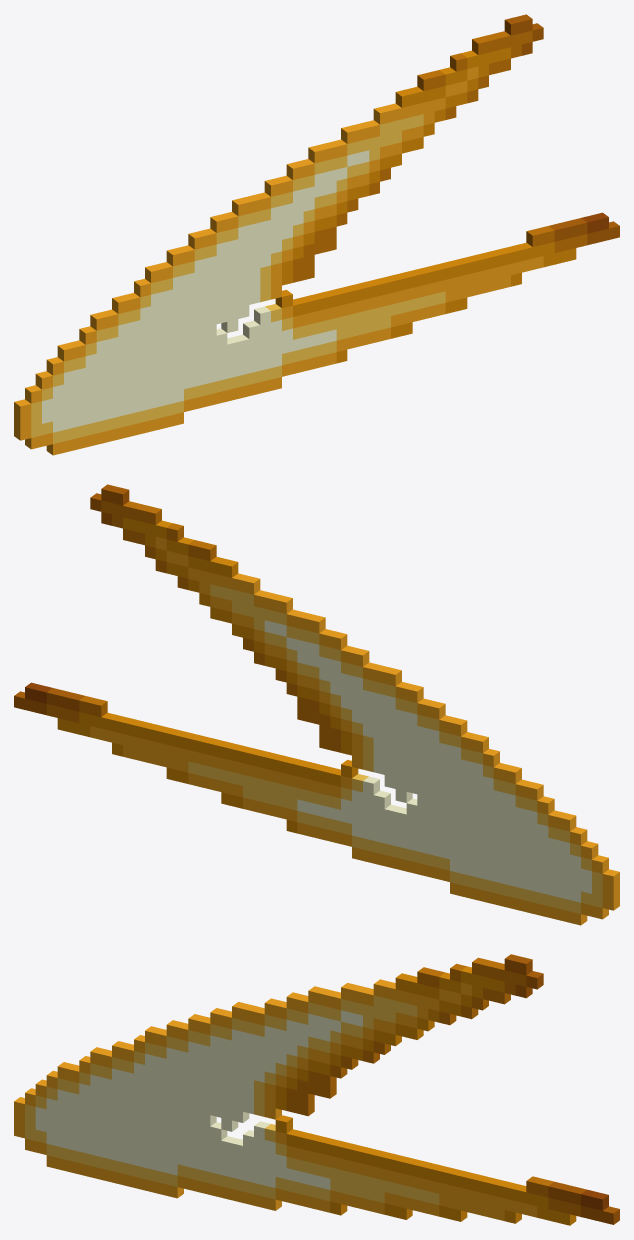
File: Fight_020_2_09_fx.obj
3 views of the same model, one above another, from view 1: azimuth 30°, elevation 25°; view 2: azimuth 150°, elevation 25°; view 3: azimuth 330°, elevation 25° (orthographic).
Bounding box in the file's own units: 5.5 × 2.8 × 0.1.
1 material, 1 textured.
